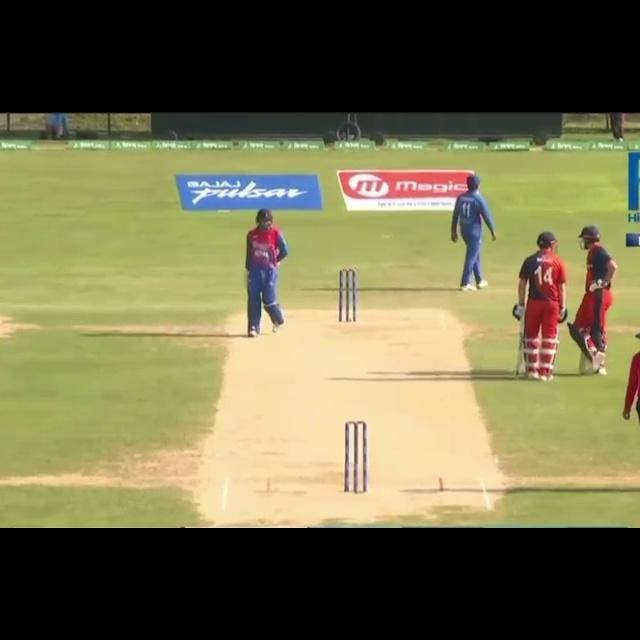umpire: (618, 318, 640, 496)
